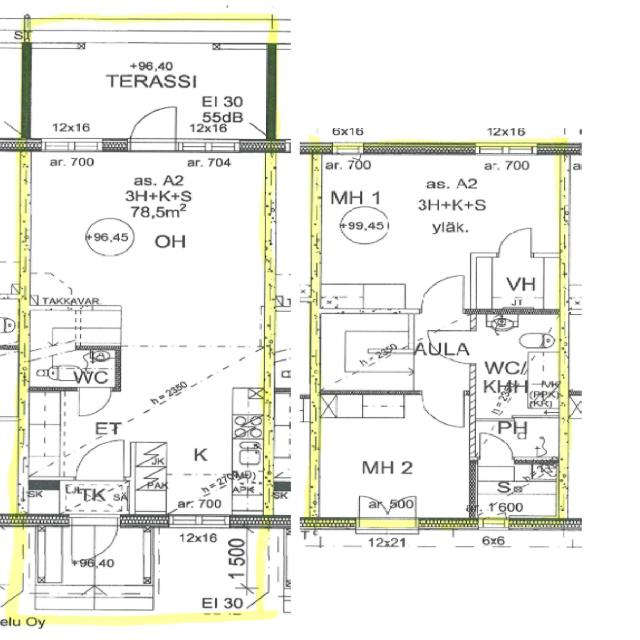door: (70, 516, 120, 564), (128, 103, 176, 151), (76, 441, 122, 480), (420, 274, 464, 314), (421, 388, 464, 427), (428, 331, 477, 363), (498, 225, 533, 258), (480, 432, 516, 464), (358, 496, 387, 529), (387, 496, 416, 529), (80, 386, 110, 414)
